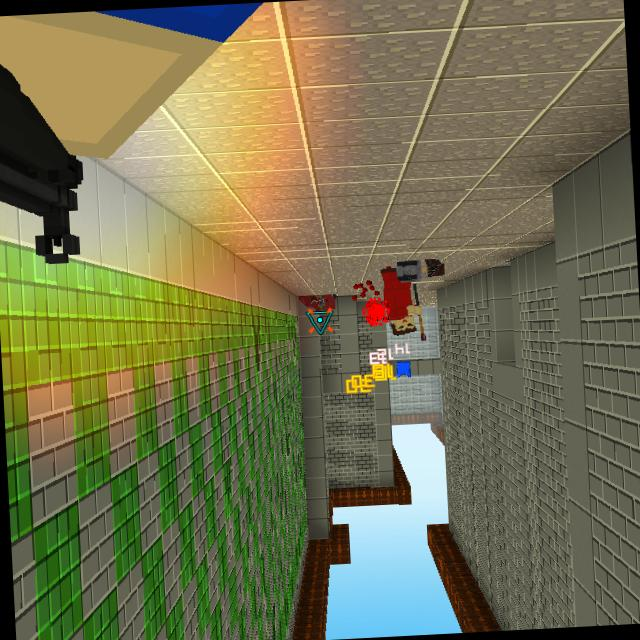enemy: (378, 264, 424, 337)
